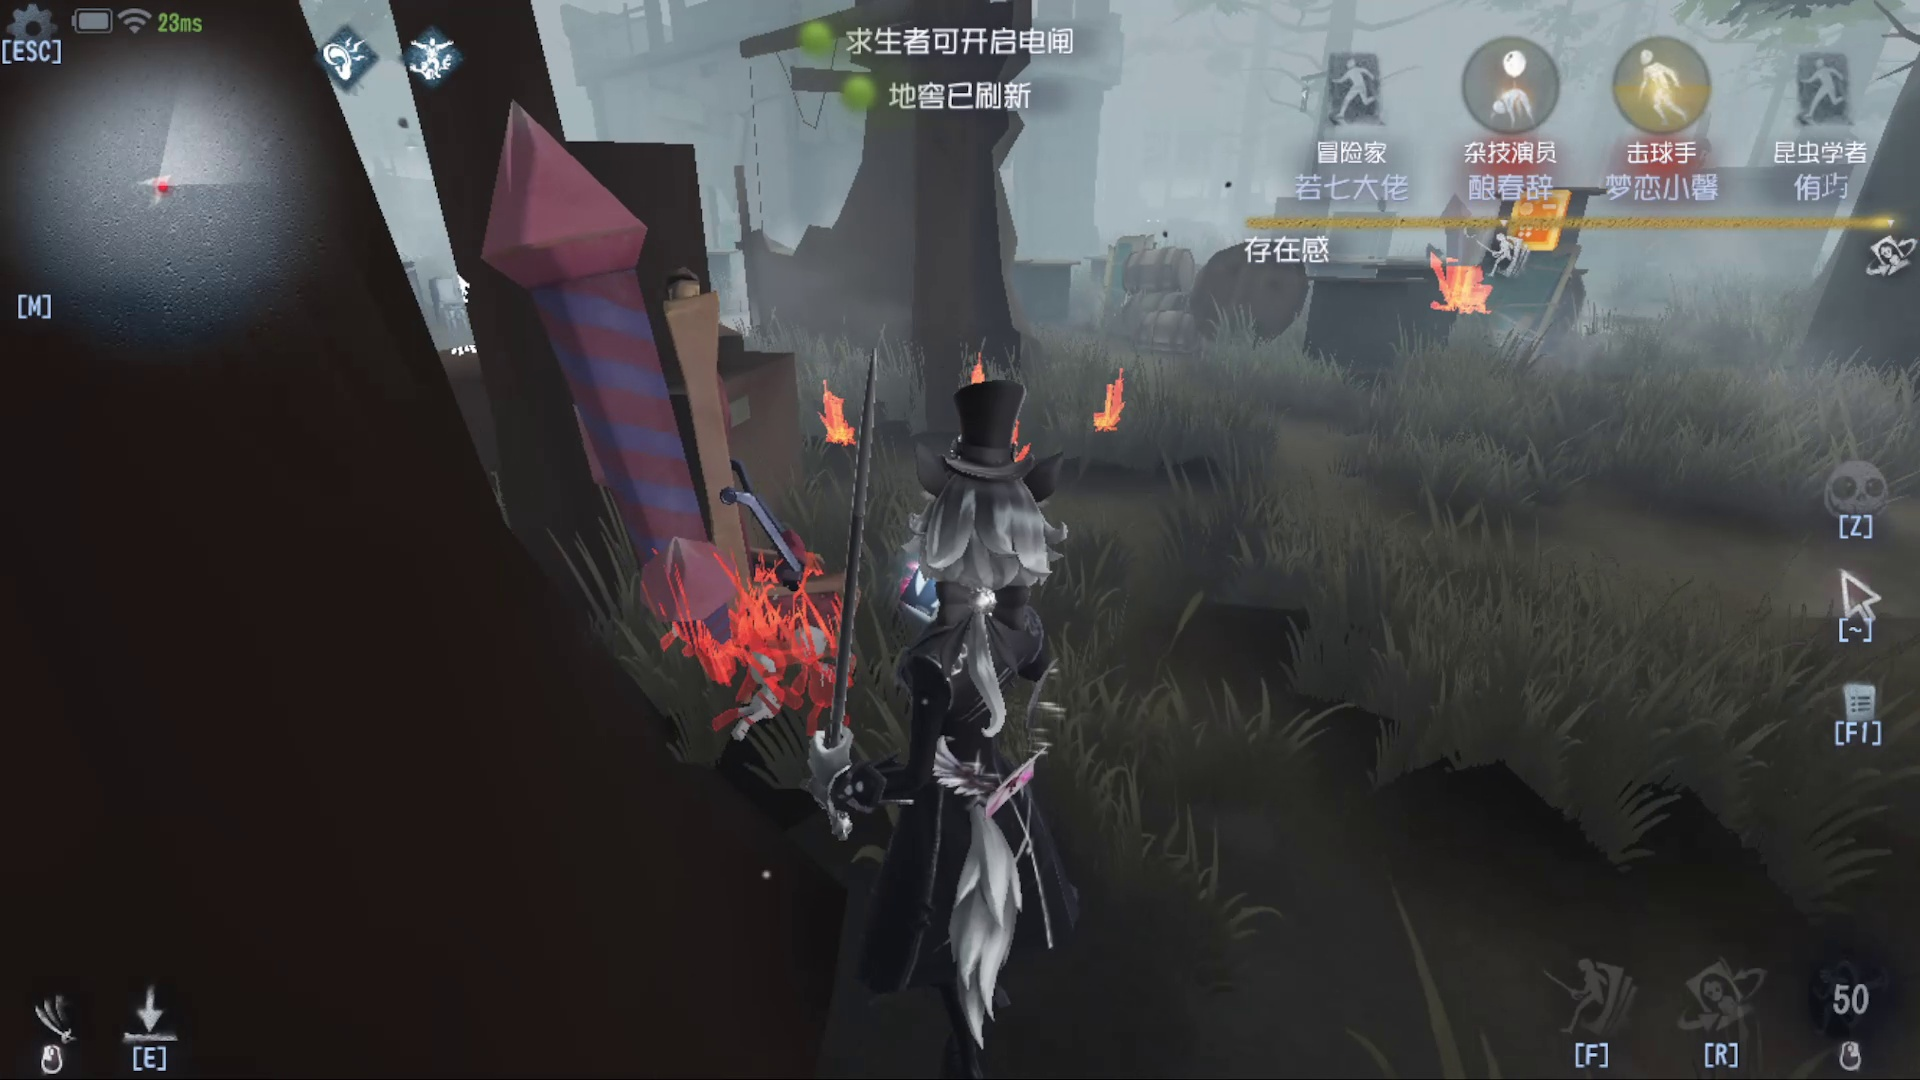狂欢之椅: (472, 116, 891, 773), (1411, 171, 1511, 352), (1079, 349, 1149, 462), (818, 369, 860, 444)
